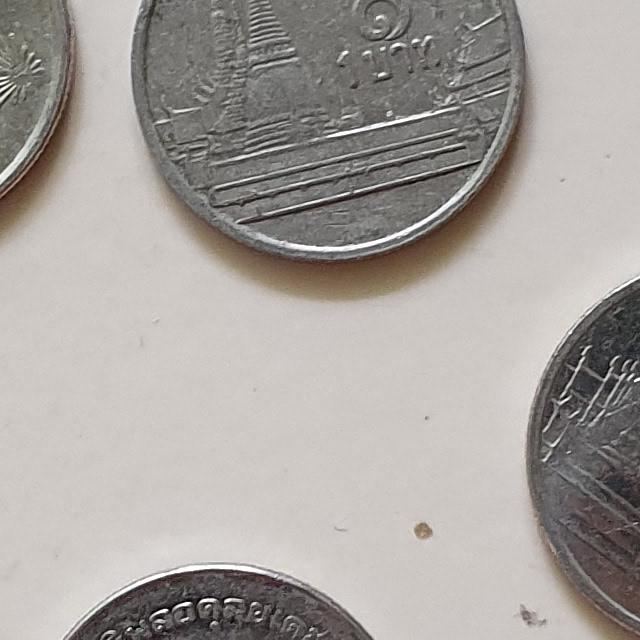1 Bath: (128, 1, 536, 274), (524, 262, 640, 640), (59, 555, 384, 640), (1, 1, 79, 208)
